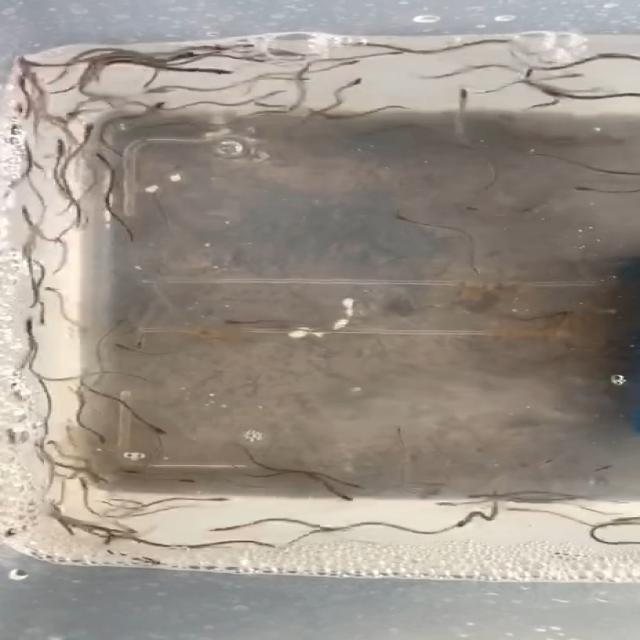inactive_glass_eel: (212, 312, 253, 332), (94, 524, 124, 550), (80, 464, 114, 486), (322, 488, 362, 504), (31, 440, 56, 465), (379, 47, 417, 63), (472, 491, 518, 504), (83, 152, 125, 166), (196, 522, 244, 534), (133, 422, 175, 435), (337, 476, 371, 492), (61, 478, 97, 493), (56, 513, 76, 539), (158, 476, 204, 487), (199, 494, 240, 506), (426, 499, 464, 511), (87, 434, 119, 448), (606, 513, 640, 526), (72, 120, 103, 134), (491, 35, 524, 48), (35, 280, 65, 294), (342, 75, 374, 88), (175, 47, 205, 60), (446, 516, 475, 529), (121, 341, 154, 352), (151, 98, 173, 114), (392, 208, 413, 224), (48, 137, 76, 149), (332, 58, 363, 68), (213, 68, 240, 78), (574, 181, 596, 193), (456, 84, 472, 100), (102, 342, 134, 350), (61, 109, 85, 119), (18, 316, 41, 326), (243, 40, 261, 52), (34, 316, 55, 326), (244, 57, 273, 64), (27, 297, 45, 308), (216, 43, 233, 53), (18, 201, 32, 213)
